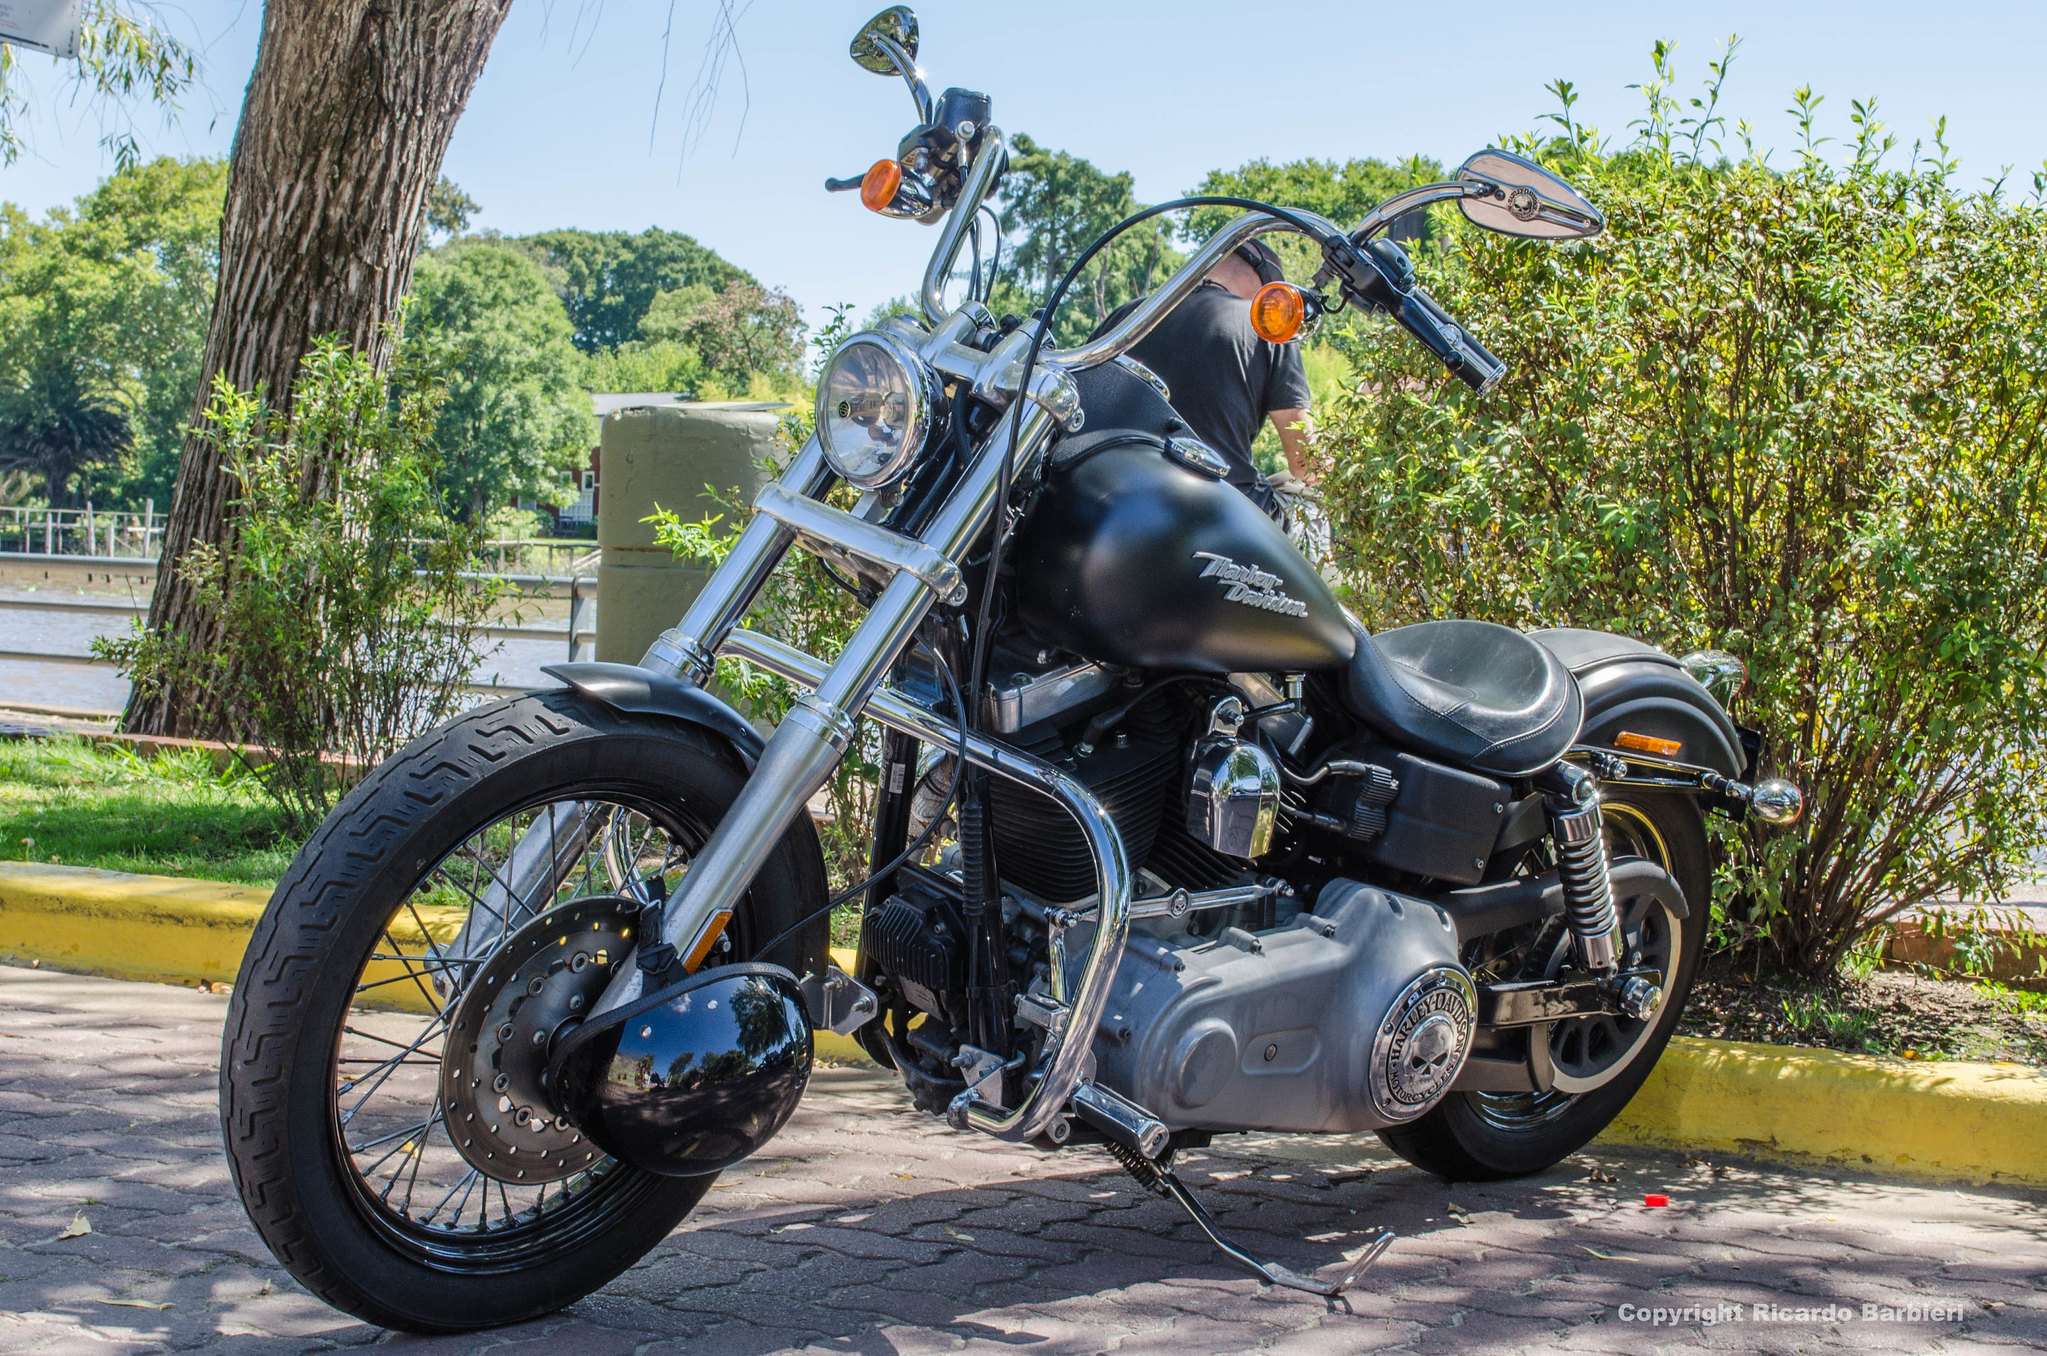motor bike: (225, 30, 1814, 1308)
